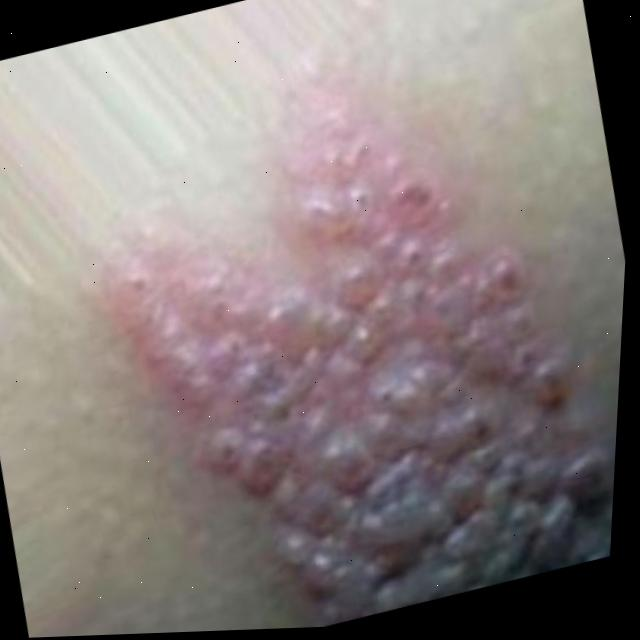Shingles: (81, 72, 635, 636)
